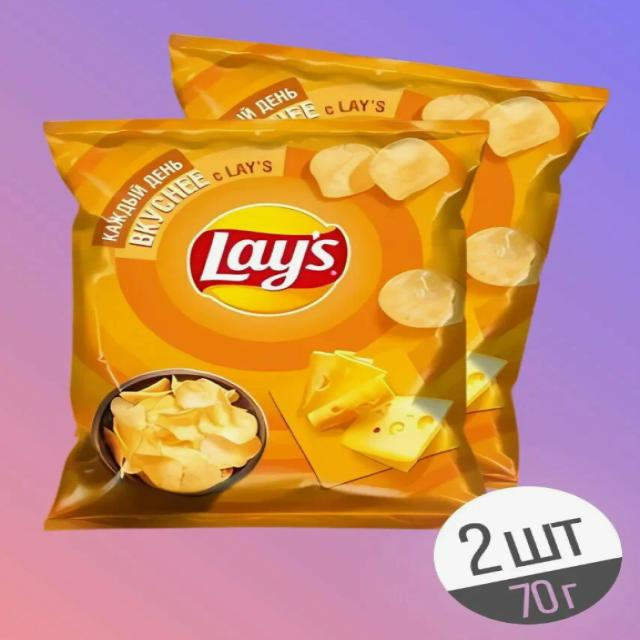supermarket-product: (153, 192, 376, 322)
